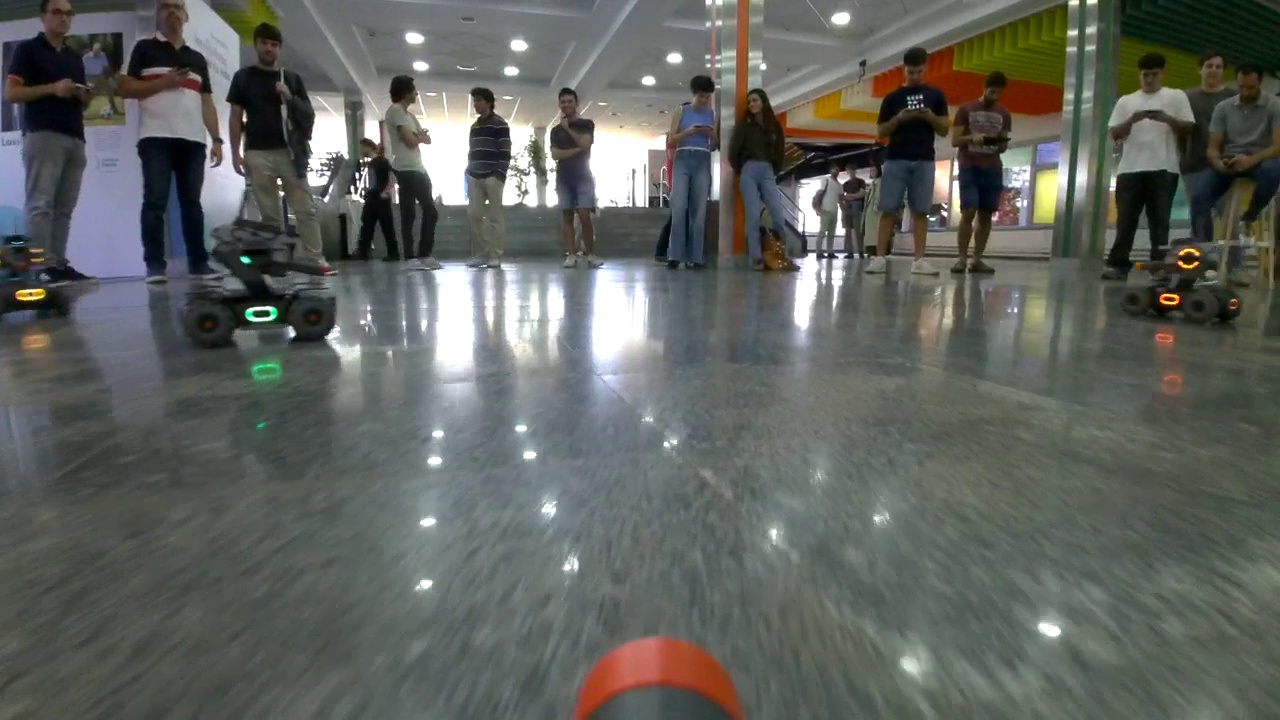robot: (177, 194, 335, 345), (1123, 236, 1244, 326), (2, 232, 80, 325)
